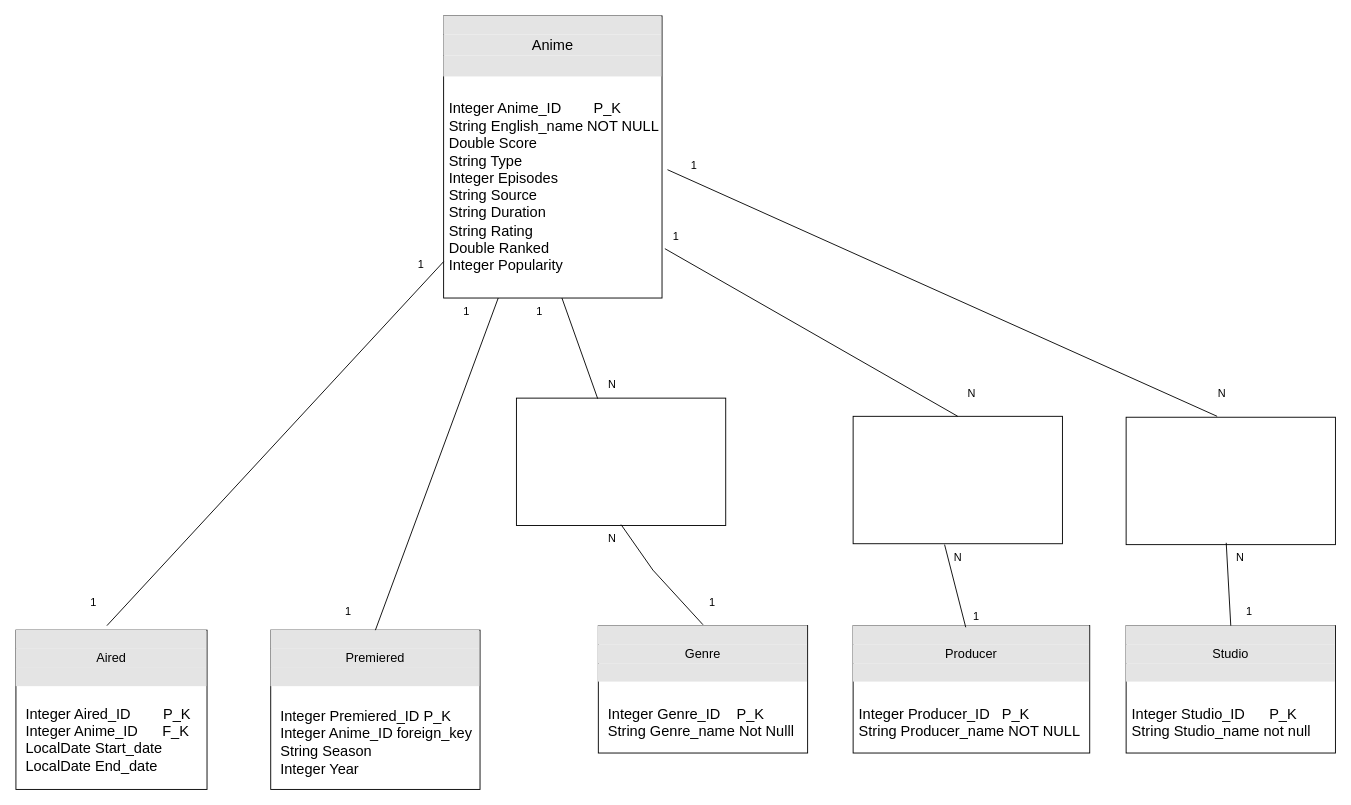
This 1351x805 diagram has some shape labels left out. Each missing label, with the centre of its shape:
Anime_Genre Integer Anime_ID F_K Integer Genre_ID F _K: the point at 621,461
Anime_Producer Integer Anime_ID F_K Integer Producer_ID F_K: the point at 957,479
Anime_Studio Integer Anime_ID F_K Integer Studio_ID F_K: the point at 1230,480
